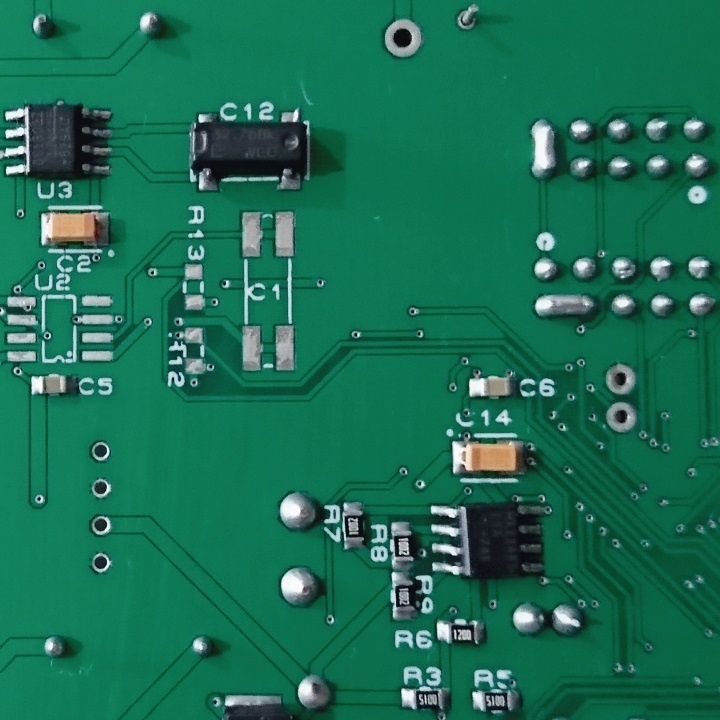F: (382, 15, 424, 63), (600, 360, 637, 397), (604, 399, 638, 436), (453, 1, 484, 40), (87, 549, 113, 575), (88, 438, 113, 465), (88, 512, 113, 538), (88, 475, 112, 500)
P: (528, 110, 561, 182), (532, 291, 600, 321)
